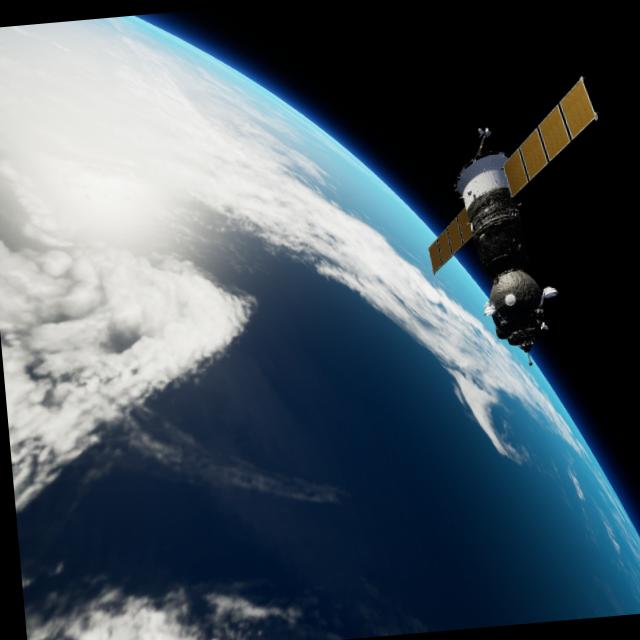Satellites revolving around earth: (410, 70, 620, 374)
